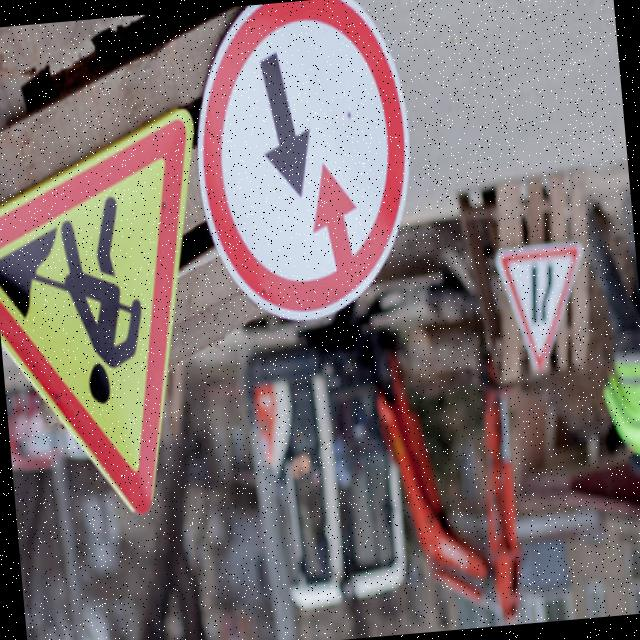road_work: (0, 117, 225, 526)
